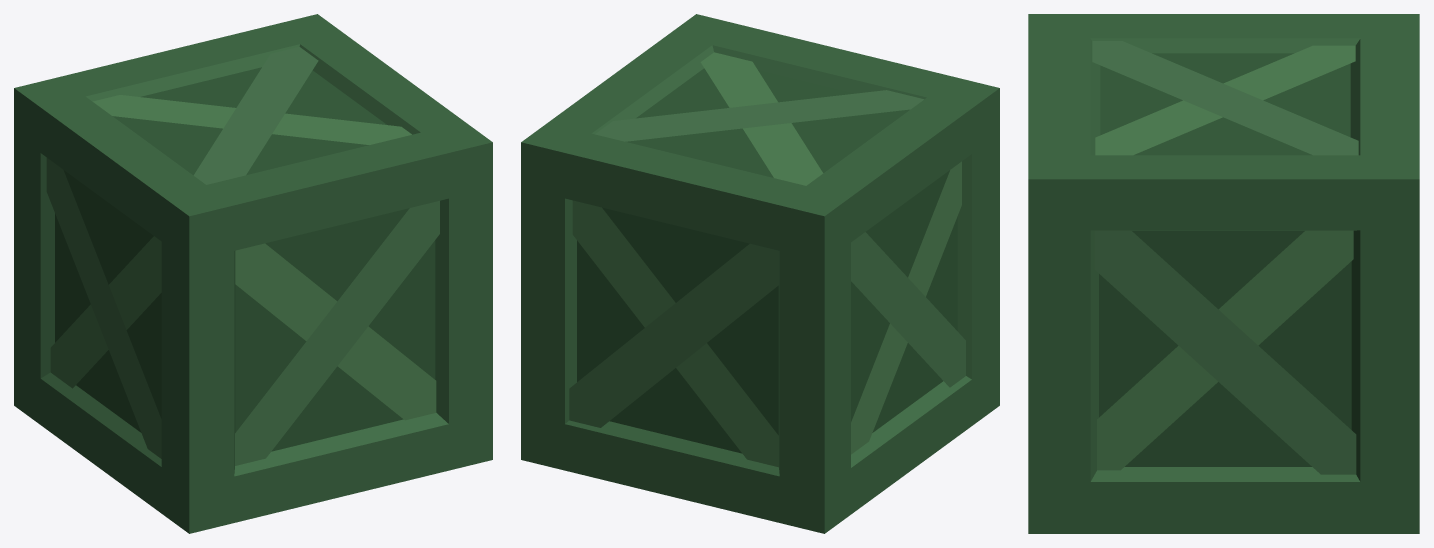
File: Ship_038.glb
The picture shows the model from 3 angles, left to right: view 1: azimuth 30°, elevation 25°; view 2: azimuth 150°, elevation 25°; view 3: azimuth 270°, elevation 25°; orthographic projection. The views are drawn at different scales.
Parts seen in each view (by area): view 1: Ship_038; view 2: Ship_038; view 3: Ship_038.
Part boxes in pixels (box(x1,y1,x2,y2)): Ship_038: box(14, 14, 492, 533); Ship_038: box(521, 14, 999, 533); Ship_038: box(1028, 14, 1419, 533).
Bounding box in the file's own units: 0.6032 × 0.6033 × 0.6033.
1 material, 1 textured.
